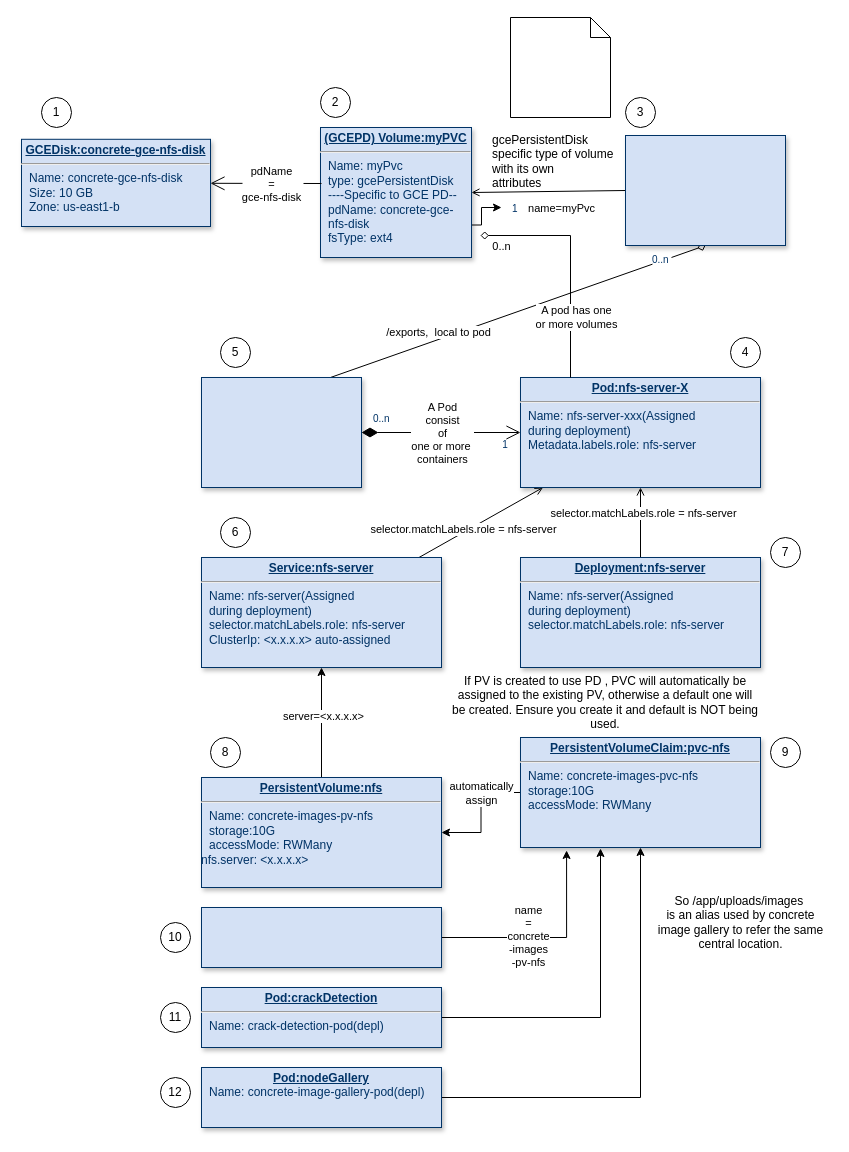
The diagram is 849 pixels wide and 1152 high, and some of its shapes have lost their labels. Each missing label, with the centre of its shape:
"Container:nfs-server Name: nfs-server Image:gcr.io/volume-nfs" belongs at pixel 282 433.
"Note: nfs-server directly mounts it as a volume NOT as PV" belongs at pixel 560 67.
"Pod:imageUpload Name: image-upload-pod(depl)" belongs at pixel 322 938.
"VolumeMount:/exports Name: nfs-server MountPath:/exports" belongs at pixel 706 191.
